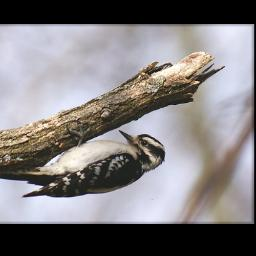Woodpecker: (0, 127, 177, 204)
